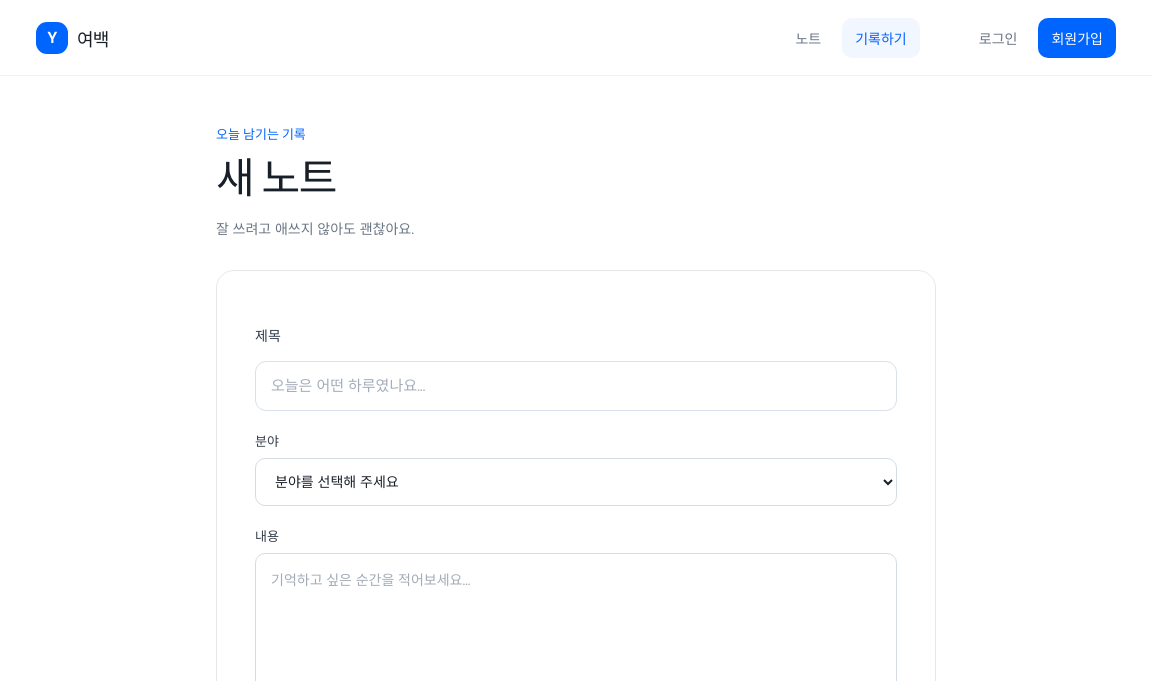
Test case: 여백 페이지 흐름 › 게시글을 저장하고 저장된 글의 상세 화면으로 이동한다
The image size is (1152, 681).
Type "작은 기쁨" into the field labelled "제목" at (576, 386), box [255,361,897,411]
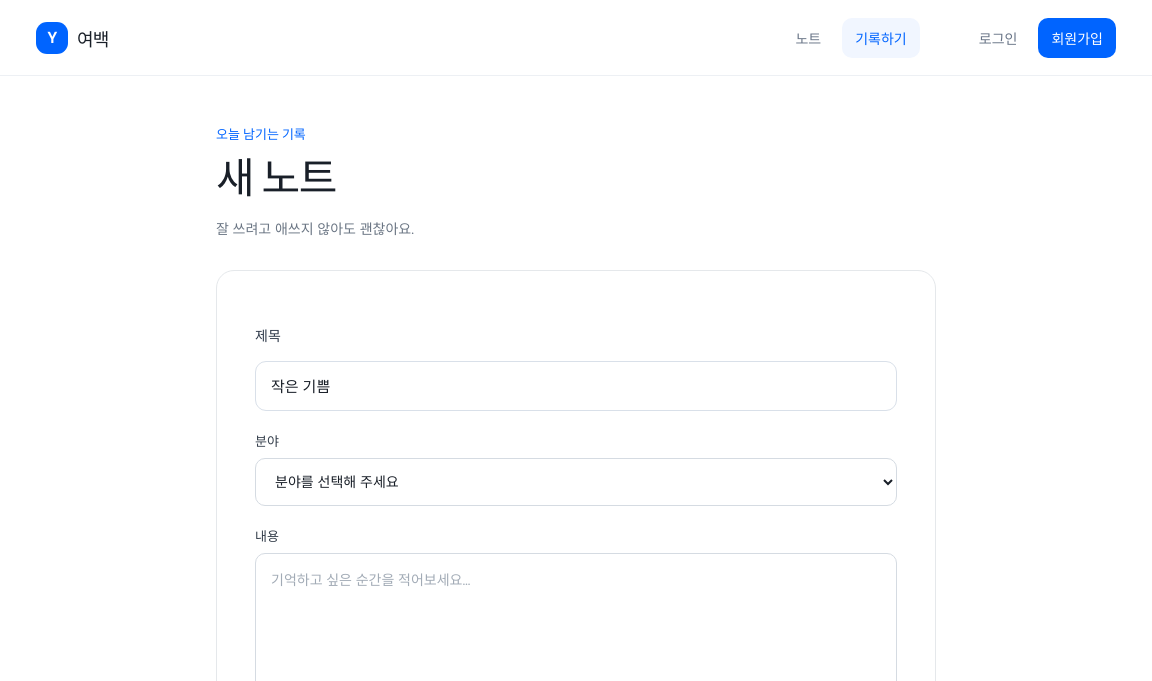
Select "예술/취미" in the dropdown labelled "분야" at (576, 482), box [255,458,897,506]
(page scrolled)
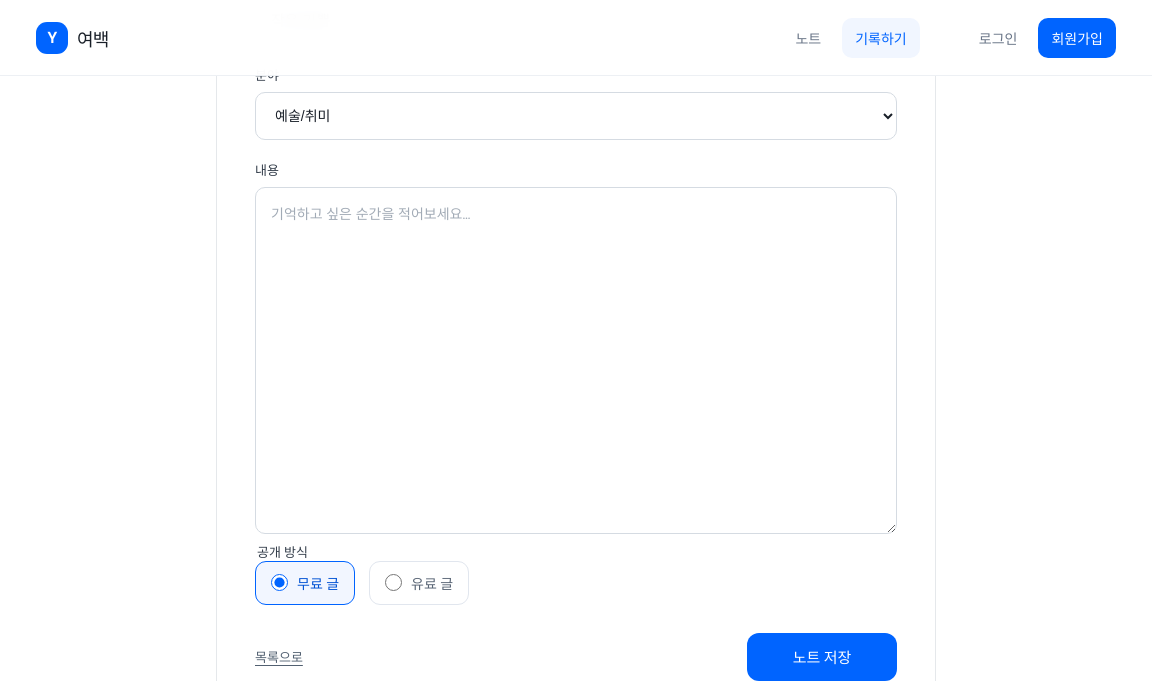
Type "따뜻한 차 한 잔" into the text box labelled "내용" at (576, 360), box [255,187,897,534]
(page scrolled)
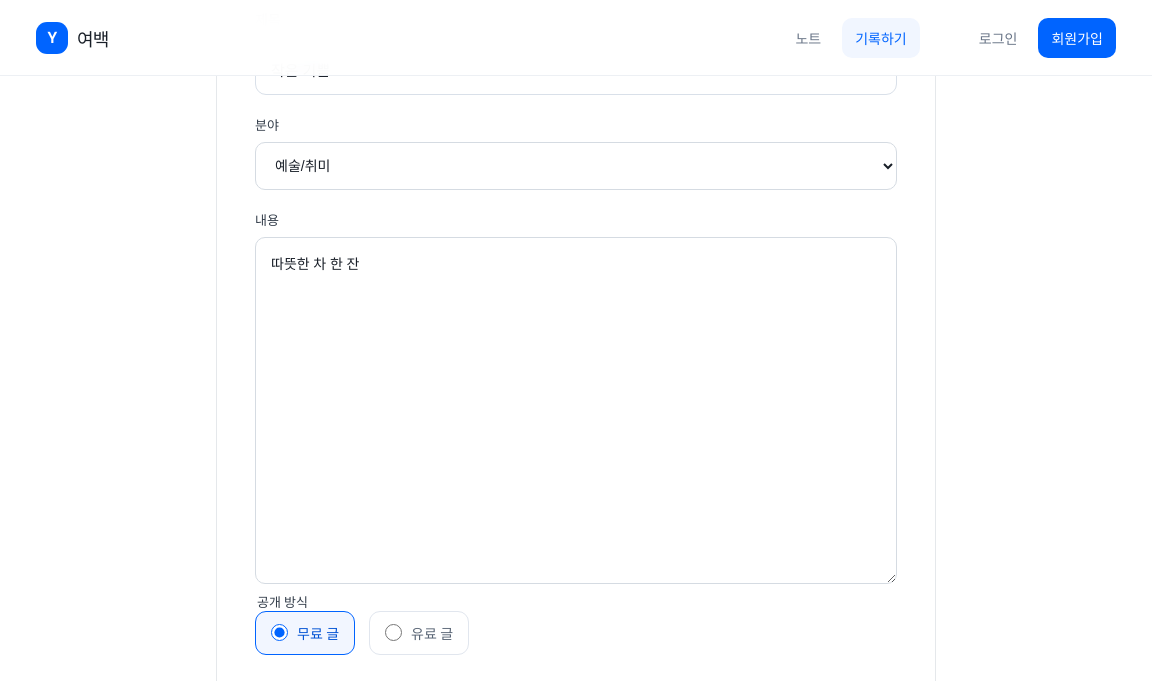
Submit the form with class "writing-panel"
(page scrolled)
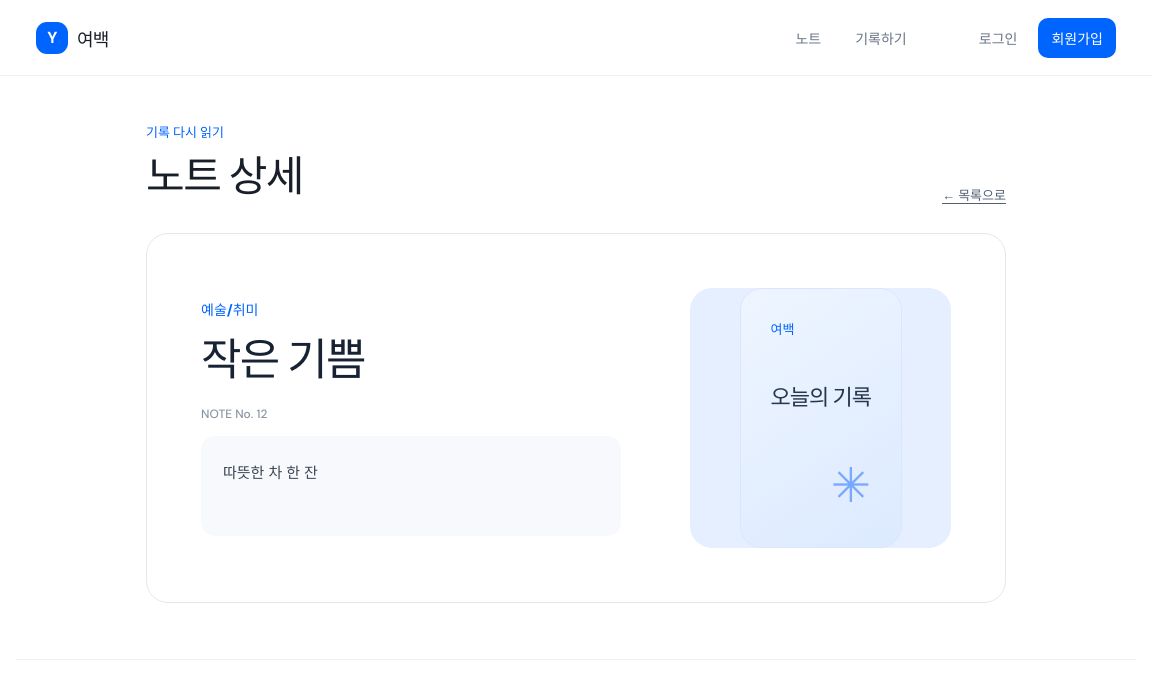
Result: the text "작은 기쁨" is shown at [201,331,365,389]
